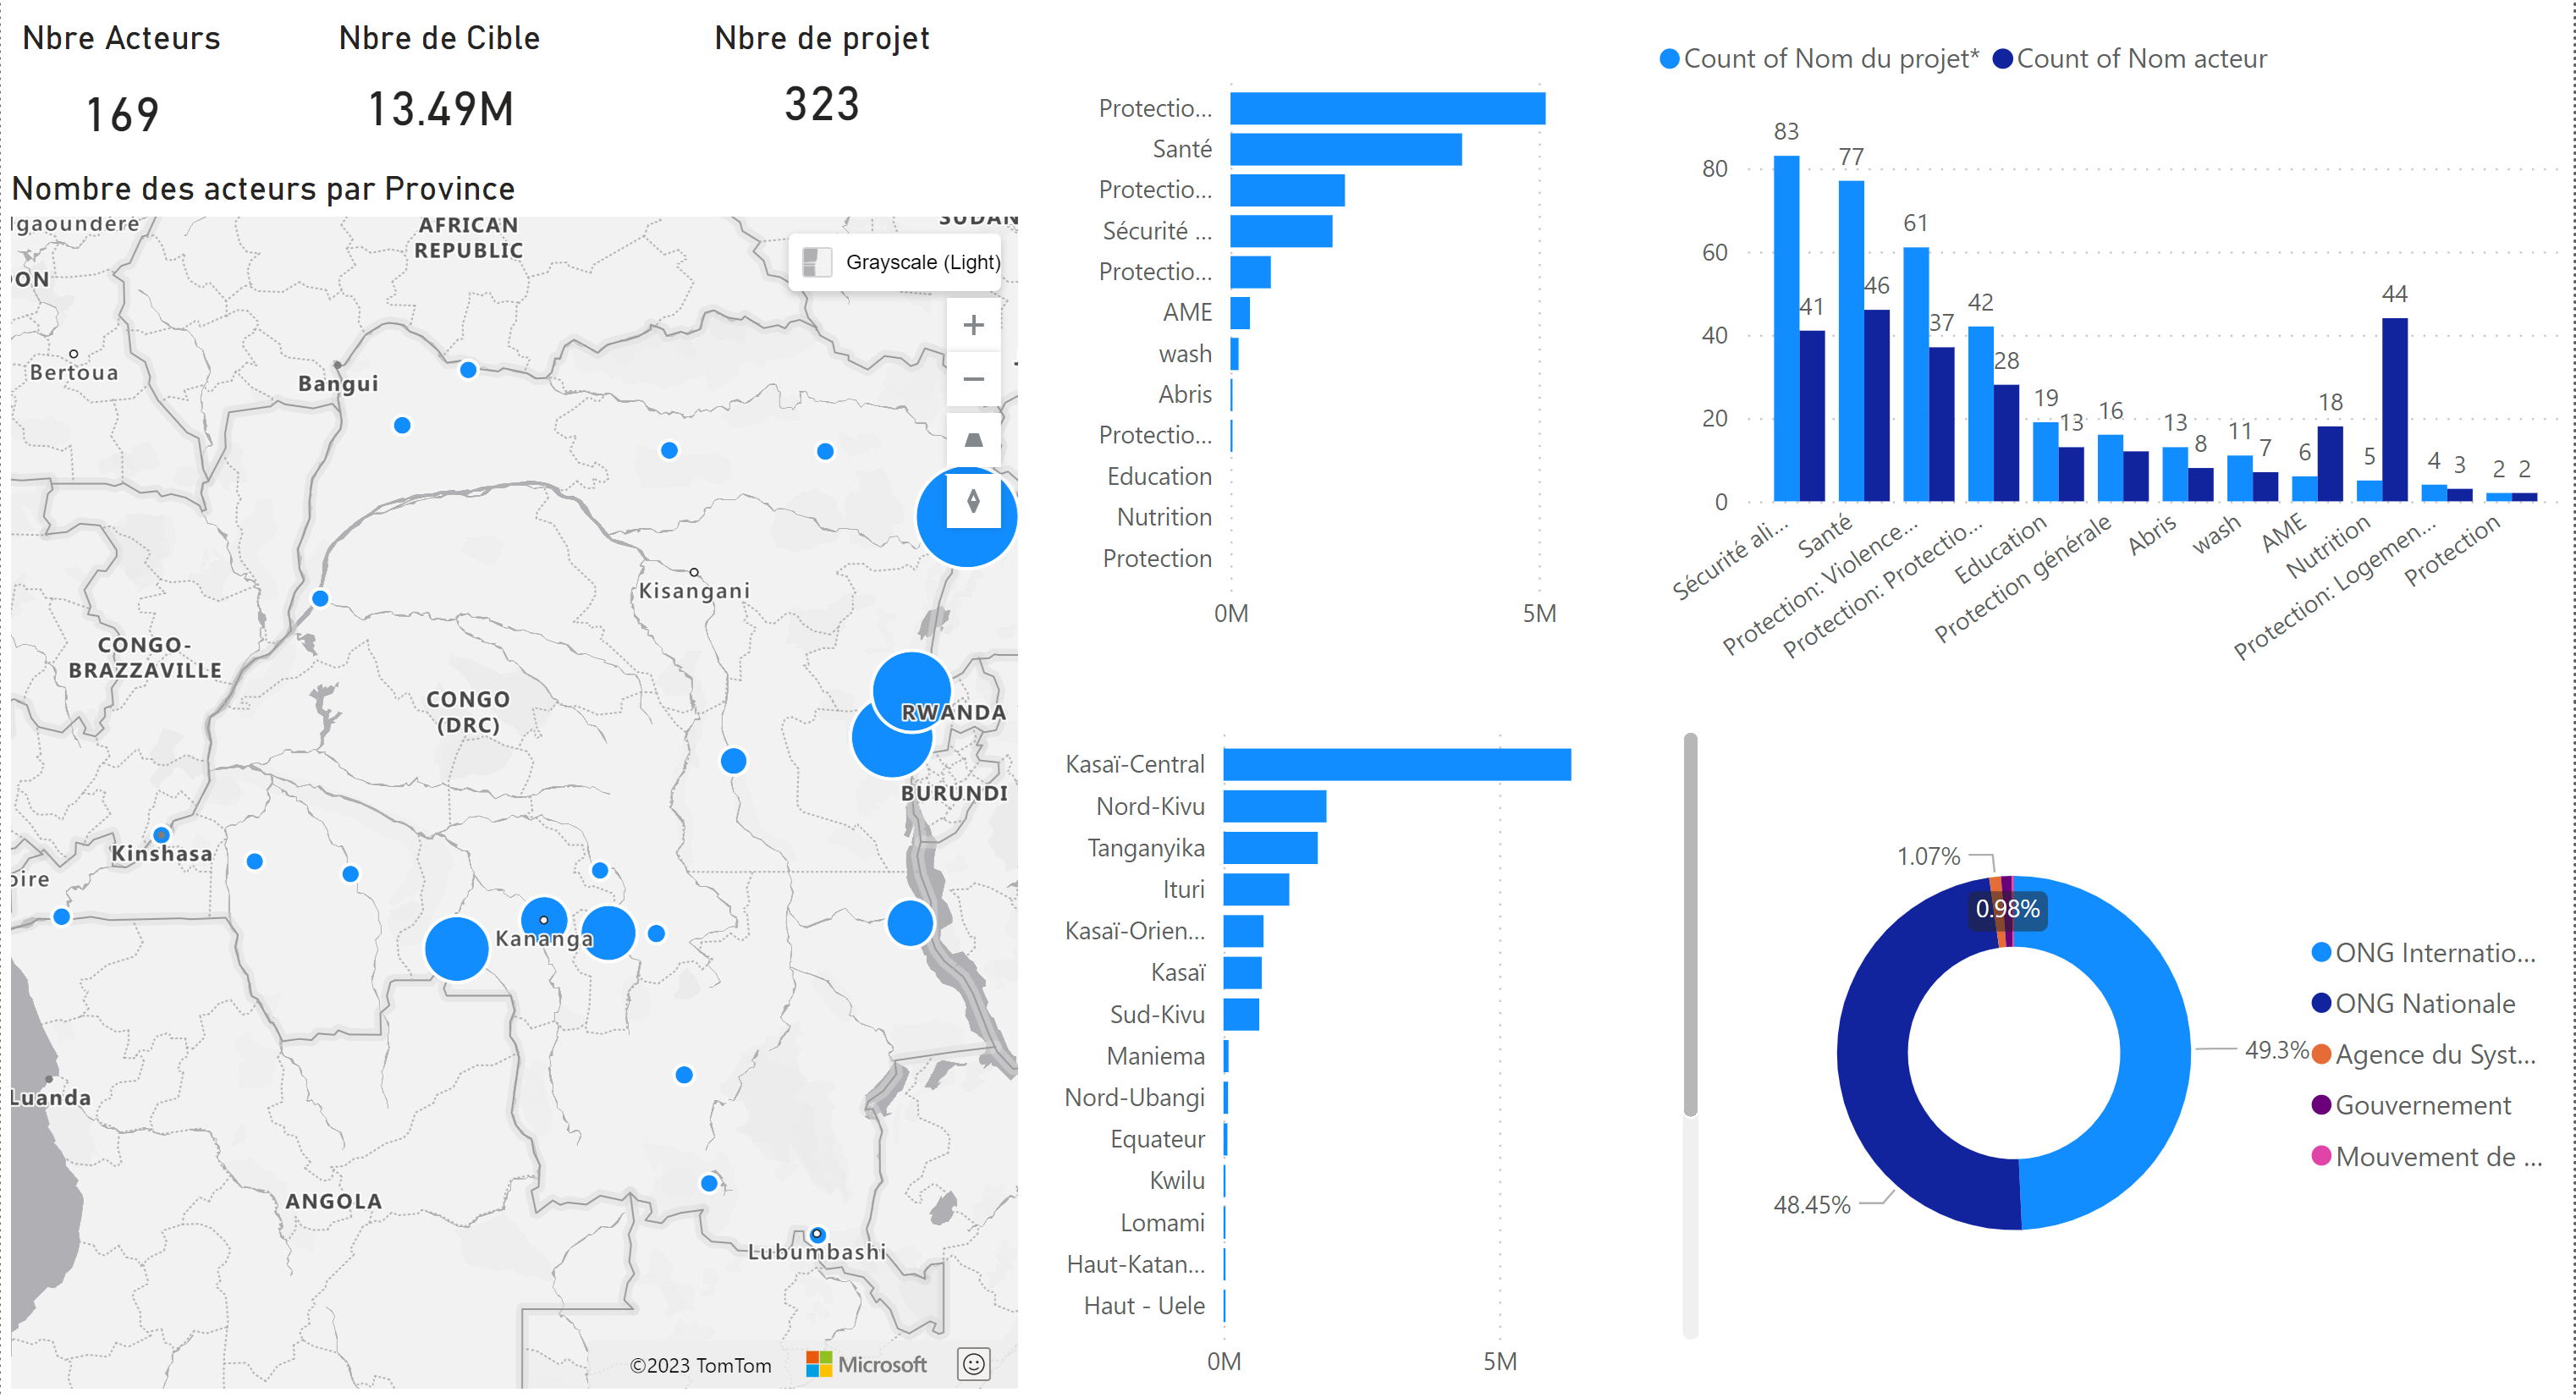

Layout of this report page (visuals, bound fields, positions):
{"tool":"powerbi","page":{"name":"Report","canvas":[1280,720],"ordinal":1},"visuals":[{"type":"card","title":"Nbre Acteurs","fields":{"Values":["Count(rdc-3w-mars-2022.ID acteur)"]},"box":[0,19,120,75],"z":0},{"type":"card","title":"Nbre de Cible","fields":{"Values":["Sum(rdc-3w-mars-2022.CIBLE)"]},"box":[120,19,196,69],"z":1000},{"type":"donutChart","fields":{"Y":["CountNonNull(rdc-3w-mars-2022.Nom acteur)"],"Category":["rdc-3w-mars-2022.Type_organisation"]},"box":[850.1,360.9,429.9,345.3],"z":3000},{"type":"clusteredColumnChart","fields":{"Y":["Count(rdc-3w-mars-2022.Nom du projet*)","Count(rdc-3w-mars-2022.Nom acteur)"],"Category":["rdc-3w-mars-2022.Nom cluster"]},"box":[819,19.4,461,333.6],"z":4000},{"type":"clusteredBarChart","fields":{"Category":["rdc-3w-mars-2022.Nom cluster"],"Y":["Sum(rdc-3w-mars-2022.CIBLE)"]},"box":[529.1,35,281.1,298.6],"z":5000},{"type":"clusteredBarChart","fields":{"Y":["Sum(rdc-3w-mars-2022.CIBLE)"],"Category":["rdc-3w-mars-2022.Province"]},"box":[510.6,360.9,339.4,344.3],"z":6000},{"type":"azureMap","title":"Nombre des acteurs par Province","fields":{"Category":["rdc-3w-mars-2022.Province"],"Size":["CountNonNull(rdc-3w-mars-2022.Nom acteur)"]},"box":[0,94,511,612],"z":7000},{"type":"card","title":"Nbre de projet","fields":{"Values":["Count(rdc-3w-mars-2022.Nom du projet*)"]},"box":[316,19,186,64],"z":8000}]}

Visuals, with their boxes on the page's 1280x720 design canvas (x1, y1, x2, y2). These are canvas units, not pixel positions in the 2576x1398 screenshot, which may show the page scaled, cropped or inside an application window:
"Nbre Acteurs" card: 0/19/120/94
"Nbre de Cible" card: 120/19/316/88
donutChart - CountNonNull(rdc-3w-mars-2022.Nom acteur) x rdc-3w-mars-2022.Type_organisation: 850/361/1280/706
clusteredColumnChart - Count(rdc-3w-mars-2022.Nom du projet*) x Count(rdc-3w-mars-2022.Nom acteur): 819/19/1280/353
clusteredBarChart - rdc-3w-mars-2022.Nom cluster x Sum(rdc-3w-mars-2022.CIBLE): 529/35/810/334
clusteredBarChart - Sum(rdc-3w-mars-2022.CIBLE) x rdc-3w-mars-2022.Province: 511/361/850/705
"Nombre des acteurs par Province" azureMap: 0/94/511/706
"Nbre de projet" card: 316/19/502/83
